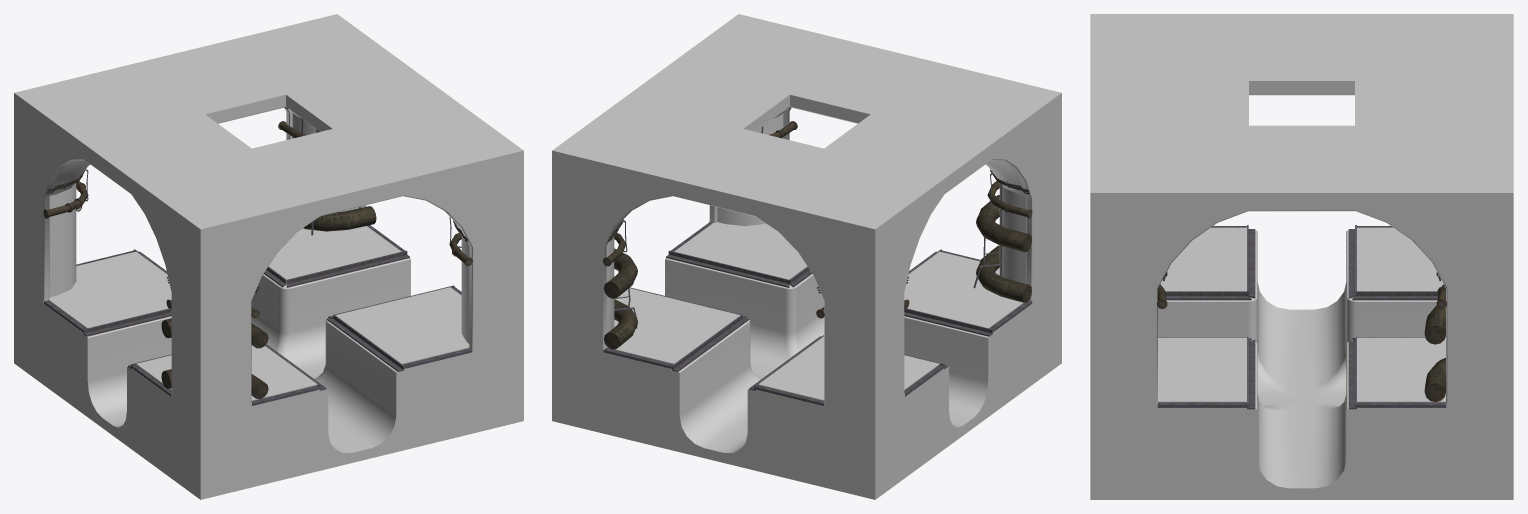
The model's file is SM_Sewer_Tunnel_D.fbx.
The picture shows the model from 3 angles, left to right: view 1: azimuth 30°, elevation 25°; view 2: azimuth 150°, elevation 25°; view 3: azimuth 270°, elevation 25°; orthographic projection. The views are drawn at different scales.
Visible parts, largest first — view 1: SMD_Sewer_Ceiling_D9, SMD_Sewer_Base_A_17, Wall_Corners, Bulks_floor, Wall_Halos, Pipes_Big, Pipes_small; view 2: SMD_Sewer_Ceiling_D9, SMD_Sewer_Base_A_17, Wall_Corners, Bulks_floor, Pipes_Big, Wall_Halos, Pipes_small, Holders; view 3: SMD_Sewer_Ceiling_D9, SMD_Sewer_Base_A_17, Wall_Corners, Bulks_floor, Wall_Halos, Pipes_Big.
Part boxes in pixels (left/top/right/bottom): SMD_Sewer_Ceiling_D9: left=14, top=14, right=523, bottom=313; SMD_Sewer_Base_A_17: left=14, top=226, right=523, bottom=499; Wall_Corners: left=14, top=113, right=523, bottom=415; Bulks_floor: left=44, top=225, right=472, bottom=405; Wall_Halos: left=41, top=108, right=475, bottom=403; Pipes_Big: left=161, top=206, right=375, bottom=398; Pipes_small: left=43, top=121, right=472, bottom=318; SMD_Sewer_Ceiling_D9: left=552, top=14, right=1061, bottom=313; SMD_Sewer_Base_A_17: left=552, top=221, right=1061, bottom=499; Wall_Corners: left=552, top=113, right=1061, bottom=415; Bulks_floor: left=603, top=222, right=1031, bottom=405; Pipes_Big: left=604, top=195, right=1031, bottom=349; Wall_Halos: left=600, top=107, right=1034, bottom=403; Pipes_small: left=603, top=121, right=1032, bottom=318; Holders: left=614, top=126, right=1002, bottom=328; SMD_Sewer_Ceiling_D9: left=1090, top=14, right=1513, bottom=288; SMD_Sewer_Base_A_17: left=1090, top=227, right=1513, bottom=499; Wall_Corners: left=1090, top=289, right=1513, bottom=403; Bulks_floor: left=1157, top=225, right=1446, bottom=409; Wall_Halos: left=1153, top=207, right=1450, bottom=405; Pipes_Big: left=1424, top=305, right=1445, bottom=401.
Size of the model in its own units: 1000 by 800 by 1000.
